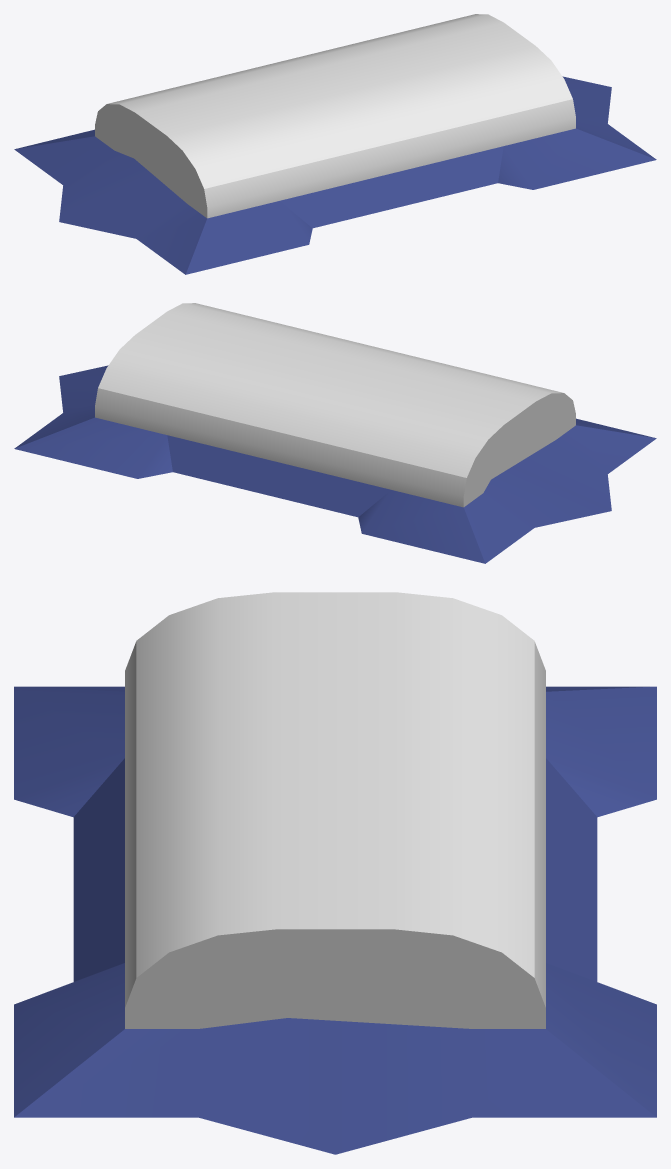
Rendered from Signal.fbx.
The picture shows the model from 3 angles, top to bottom: view 1: azimuth 30°, elevation 25°; view 2: azimuth 150°, elevation 25°; view 3: azimuth 270°, elevation 25°; orthographic projection. The views are drawn at different scales.
Visible parts, largest first — view 1: Signal; view 2: Signal; view 3: Signal.
Part boxes in pixels (x1,y1,x2,y2): Signal: (14, 14, 656, 274); Signal: (14, 303, 656, 563); Signal: (14, 592, 656, 1154).
Size of what is drawn, in the model's own units: 47.03 by 6.13 by 25.29.
